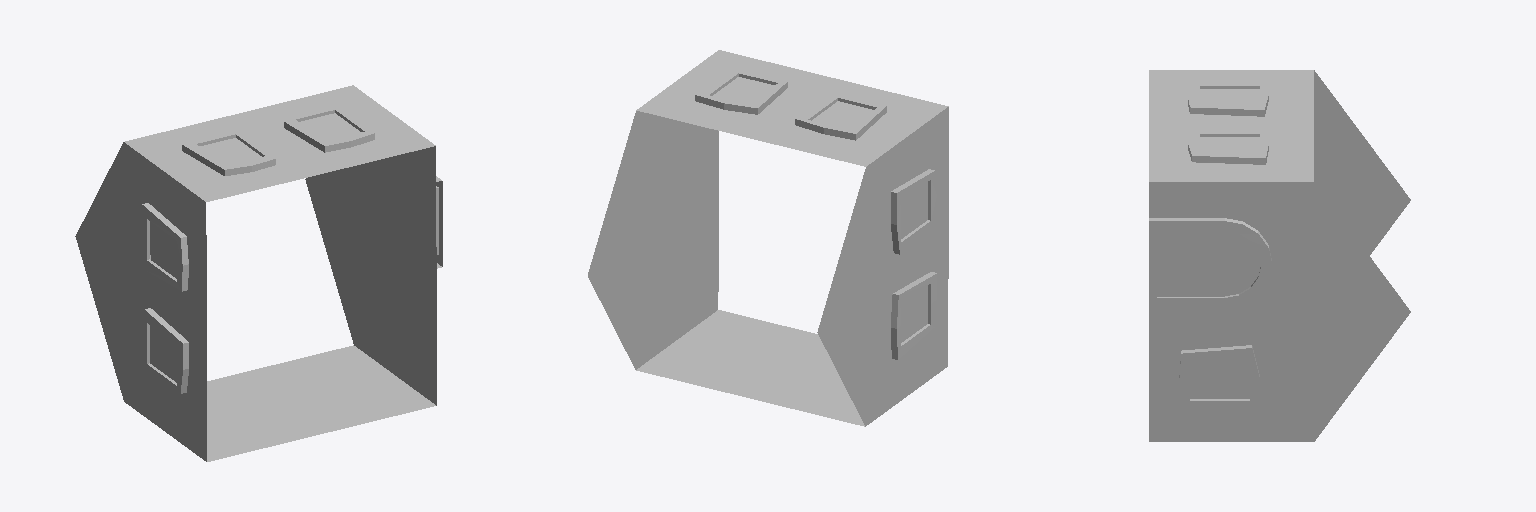
File: polygon411.obj
3 renders of one model, left to right at view 1: azimuth 30°, elevation 25°; view 2: azimuth 150°, elevation 25°; view 3: azimuth 270°, elevation 25°, orthographic.
Visible parts, largest first — view 1: polygon411; view 2: polygon411; view 3: polygon411.
Boxes of the visible parts, box(x1,y1,x2,y2) form: polygon411: box(75, 85, 442, 461); polygon411: box(588, 50, 948, 426); polygon411: box(1149, 70, 1410, 441).
Size of the model in its own units: 78.11 by 84.04 by 73.19.